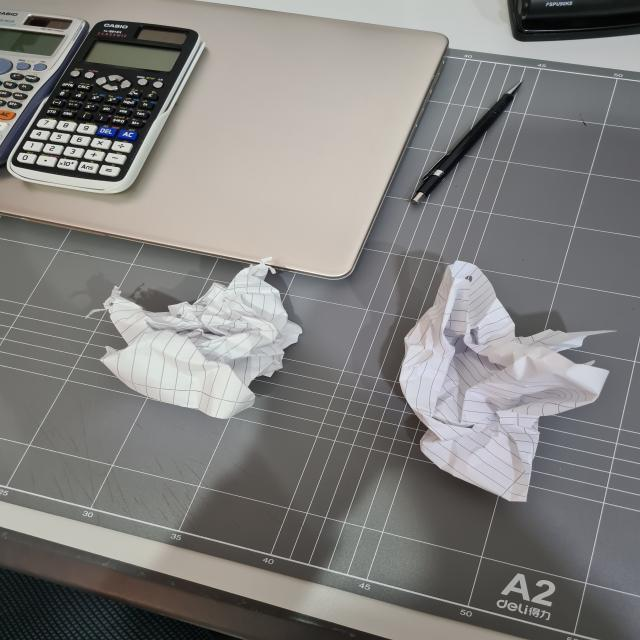Paper: (395, 260, 604, 500), (94, 263, 305, 415)
